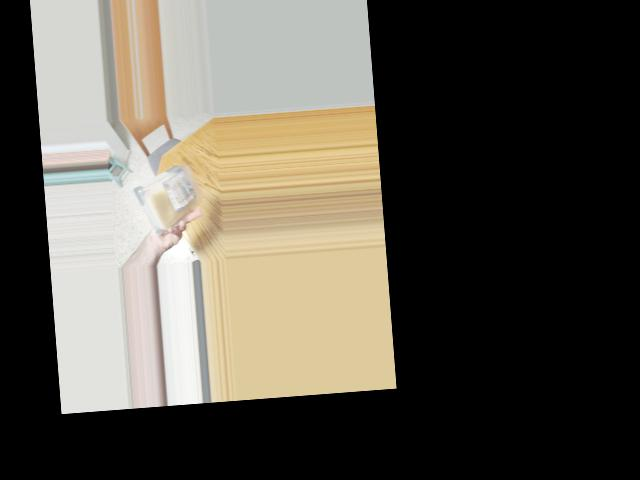cheese: (132, 164, 199, 220)
